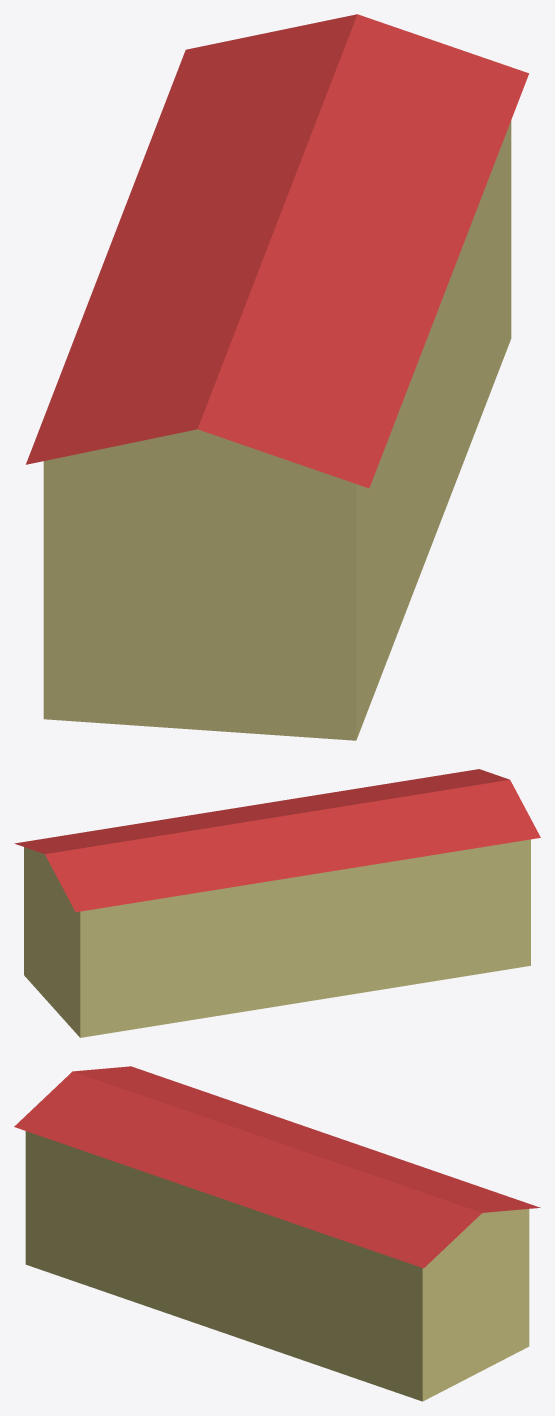
3 renders of one model, top to bottom at view 1: azimuth 30°, elevation 25°; view 2: azimuth 150°, elevation 25°; view 3: azimuth 270°, elevation 25°, orthographic. The views are drawn at different scales.
Bounding box in the file's own units: 28.54 × 31.45 × 10.76.
